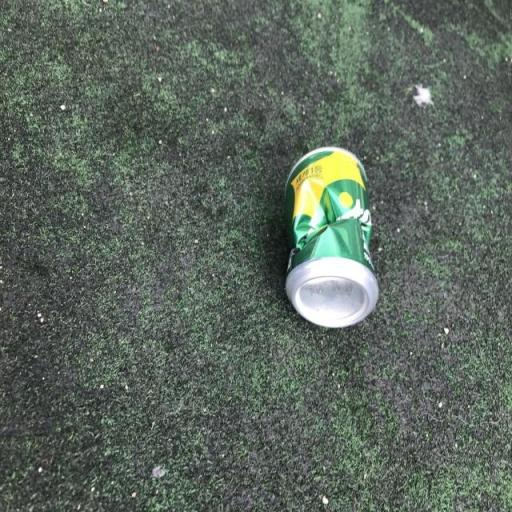metal: (266, 127, 383, 347)
